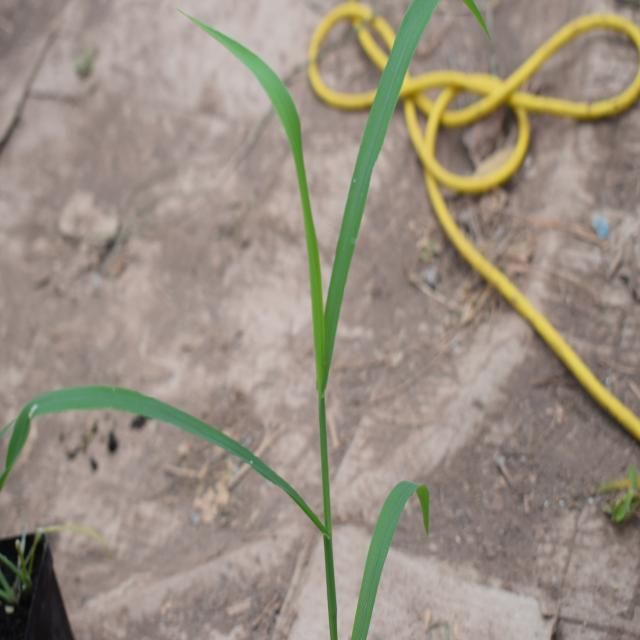crabgrass: (50, 22, 457, 623)
